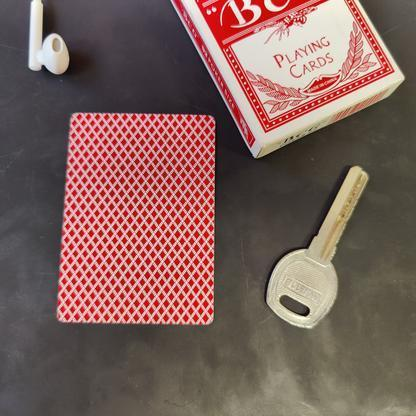card: (52, 106, 221, 330)
